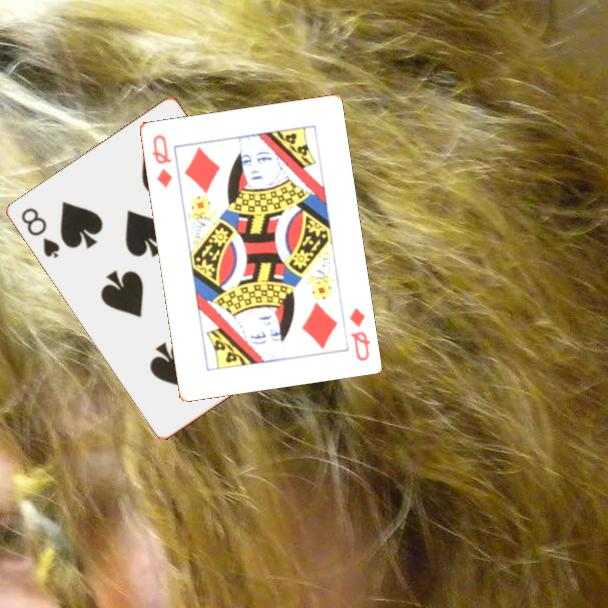d12: (346, 304, 373, 364), (148, 131, 175, 190)
s08: (18, 204, 63, 261)
